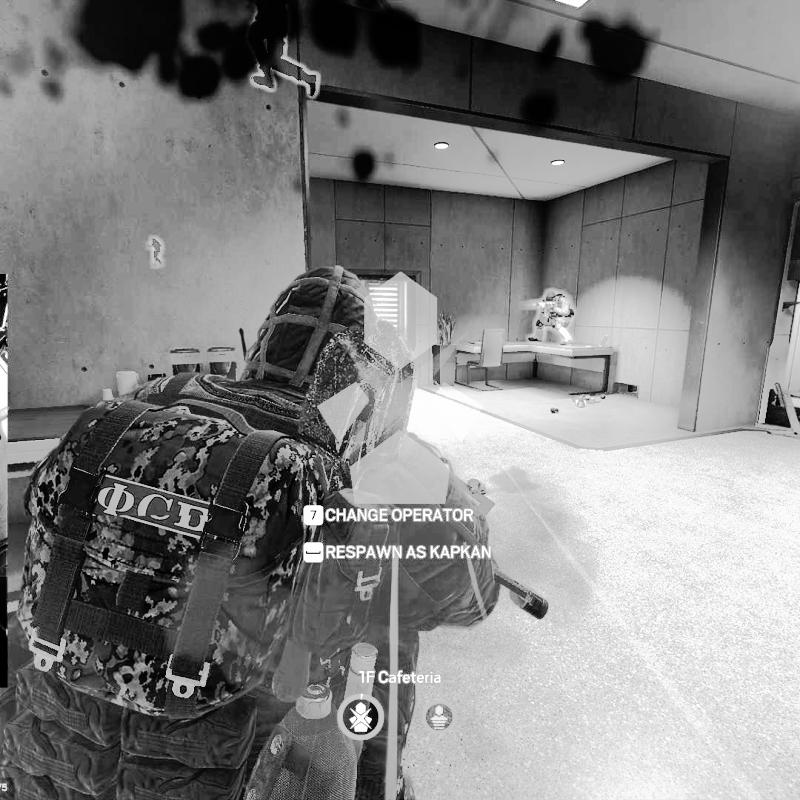Character: (0, 261, 505, 800), (526, 290, 578, 347)
Head: (245, 264, 378, 400), (546, 291, 556, 303)
